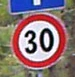limite 30: (10, 12, 66, 69)
